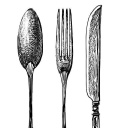Fork: (48, 5, 79, 128)
